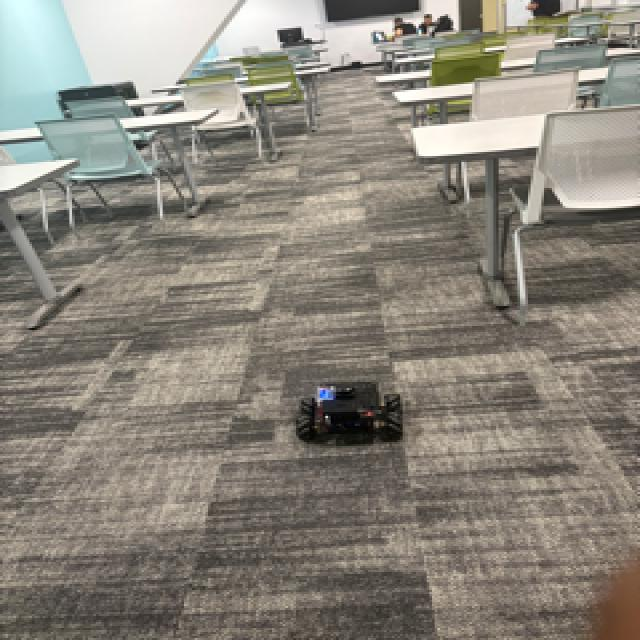ArduinoCar3: (297, 378, 406, 451)
